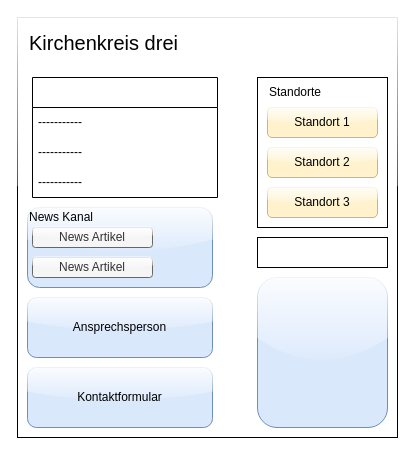
The diagram is 415 pixels wide and 455 high, and some of its shapes have lost their labels. Here are the shapes that lost their labels. From the top down, the box of each, then its label:
(32, 76, 218, 198): Eigenständige Inhalte
(256, 236, 388, 268): Unsere Termine
(256, 276, 388, 428): CMS Block
